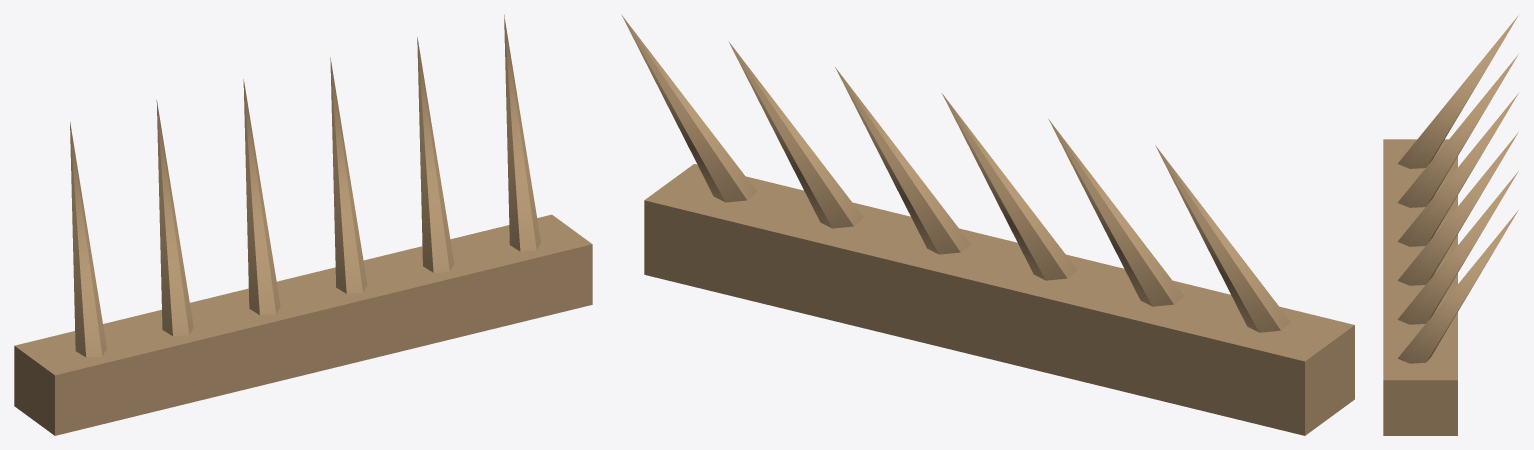
File: spike_row.glb
The picture shows the model from 3 angles, left to right: view 1: azimuth 30°, elevation 25°; view 2: azimuth 150°, elevation 25°; view 3: azimuth 270°, elevation 25°; orthographic projection. The views are drawn at different scales.
Parts seen in each view (by area): view 1: spike_row; view 2: spike_row; view 3: spike_row.
Boxes of the visible parts, box(x1,y1,x2,y2) form: spike_row: box(14, 14, 592, 435); spike_row: box(621, 14, 1354, 435); spike_row: box(1383, 15, 1518, 435).
Bounding box in the file's own units: 2.6 × 1.11 × 0.62.
